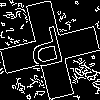P: (25, 25, 69, 78)
